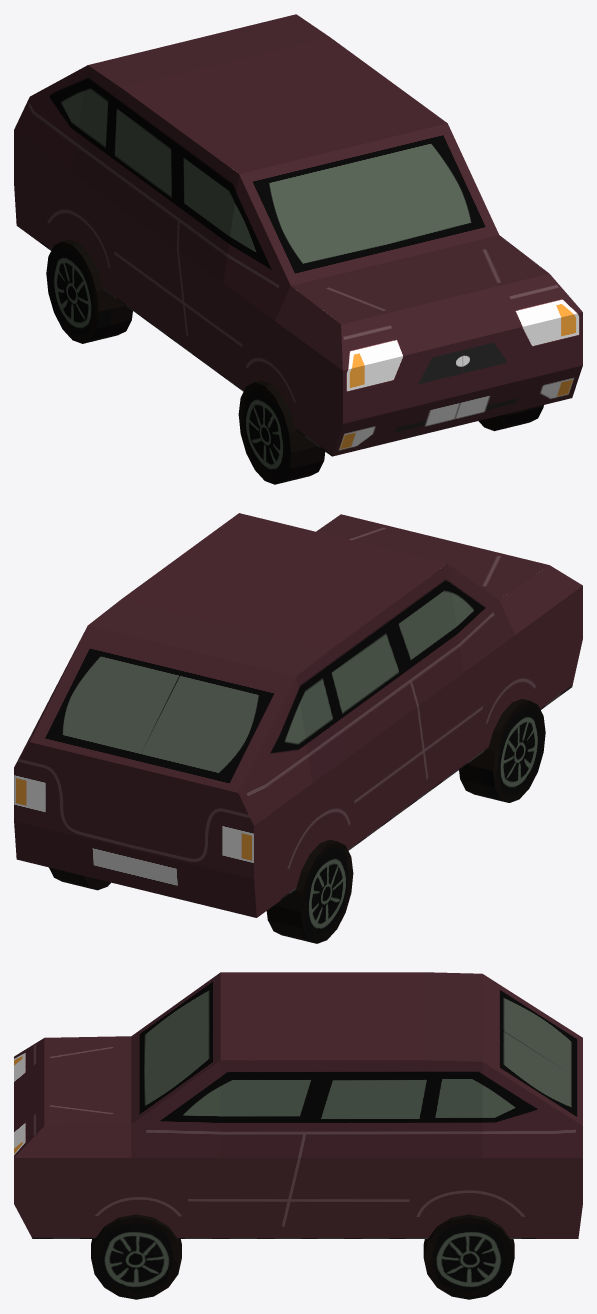
File: car_suv crimson_v1.fbx
3 views of the same model, one above another, from view 1: azimuth 30°, elevation 25°; view 2: azimuth 150°, elevation 25°; view 3: azimuth 270°, elevation 25° (orthographic). The views are drawn at different scales.
Parts seen in each view (by area): view 1: Body.002, Wheels.002; view 2: Body.002, Wheels.002; view 3: Body.002, Wheels.002.
Boxes of the visible parts, x1,y1,x2,y2 form: Body.002: (14,14,582,456); Wheels.002: (46,239,543,484); Body.002: (14,513,582,917); Wheels.002: (49,699,545,943); Body.002: (14,972,582,1238); Wheels.002: (91,1214,514,1299).
Size of the model in its own units: 238 by 238 by 534.
